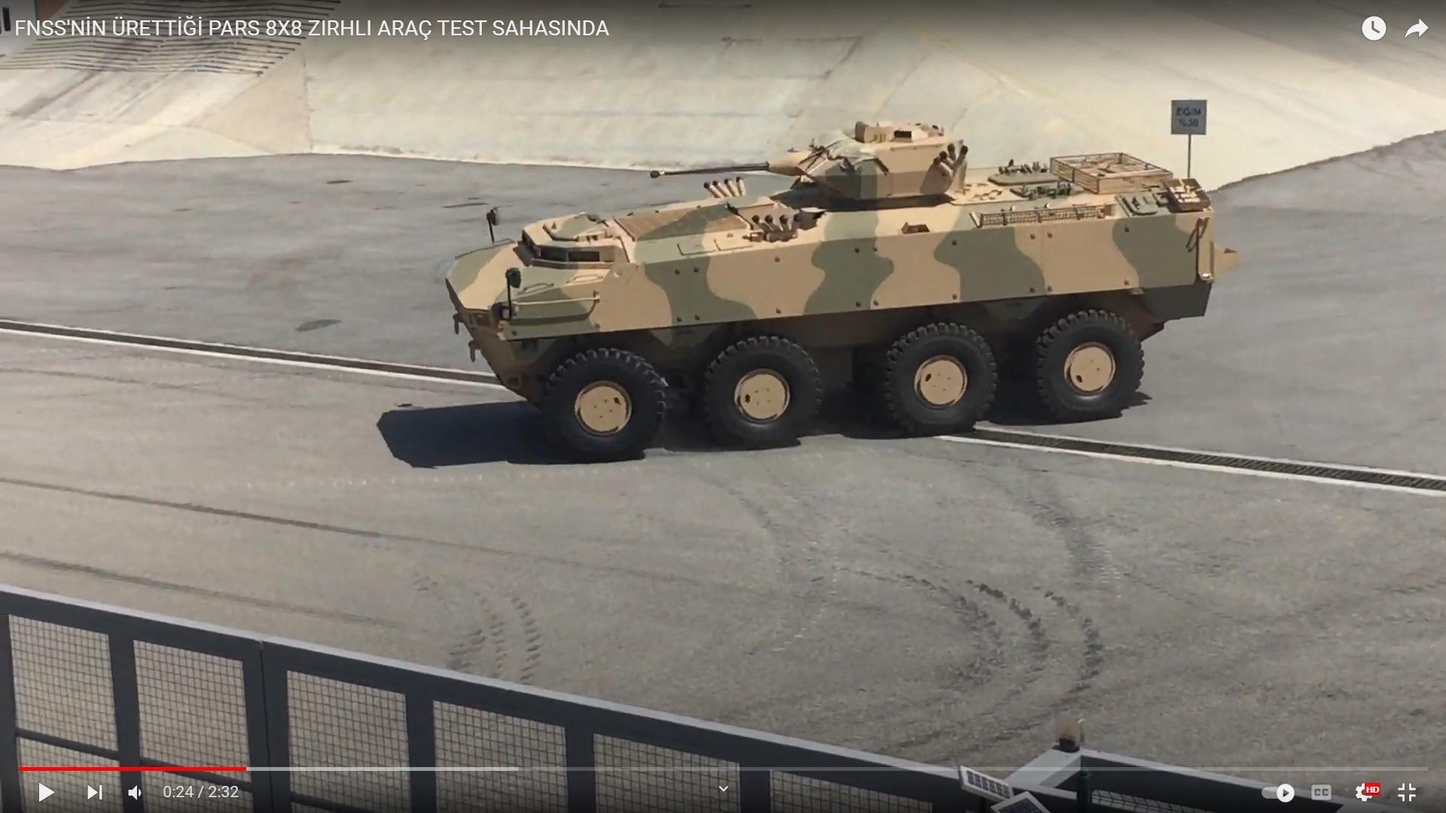armored_car: (405, 115, 1229, 462)
